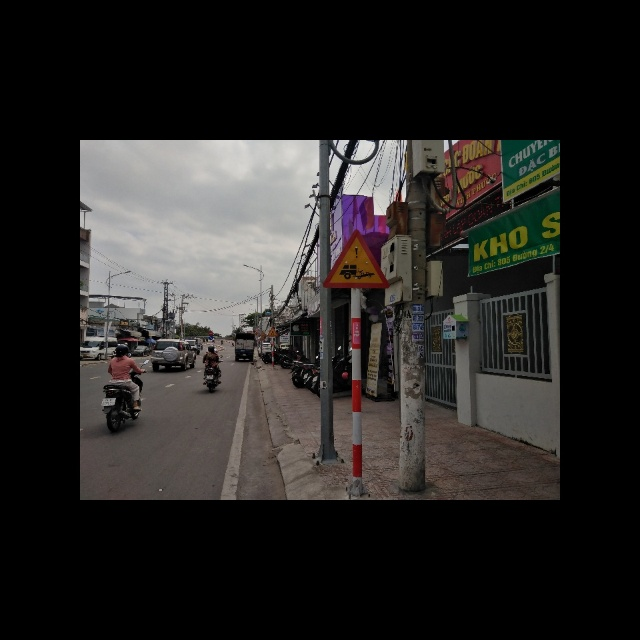Đoạn đường hay xảy ra tai nạn: (323, 232, 388, 290)
Đường đôi: (266, 325, 279, 337)
